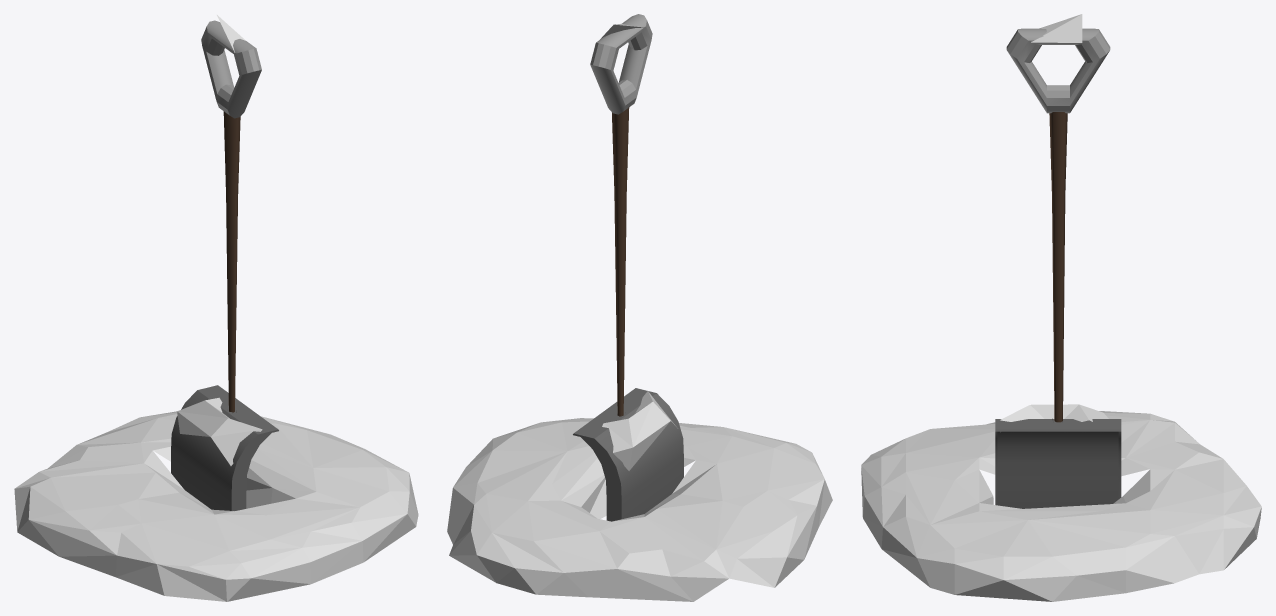
File: Shovel-Sn2.fbx
3 views of the same model, side by side, from view 1: azimuth 30°, elevation 25°; view 2: azimuth 150°, elevation 25°; view 3: azimuth 270°, elevation 25° (orthographic). The views are drawn at different scales.
Visible parts, largest first — view 1: polySurface4, polySurface3; view 2: polySurface4, polySurface3; view 3: polySurface4, polySurface3.
Boxes of the visible parts, <box> form: polySurface4: <box>14,15,418,601</box>; polySurface3: <box>171,20,278,510</box>; polySurface4: <box>447,23,832,601</box>; polySurface3: <box>573,14,683,521</box>; polySurface4: <box>861,14,1261,601</box>; polySurface3: <box>995,28,1121,508</box>.
Bounding box in the file's own units: 8.19 × 11.86 × 8.19.
